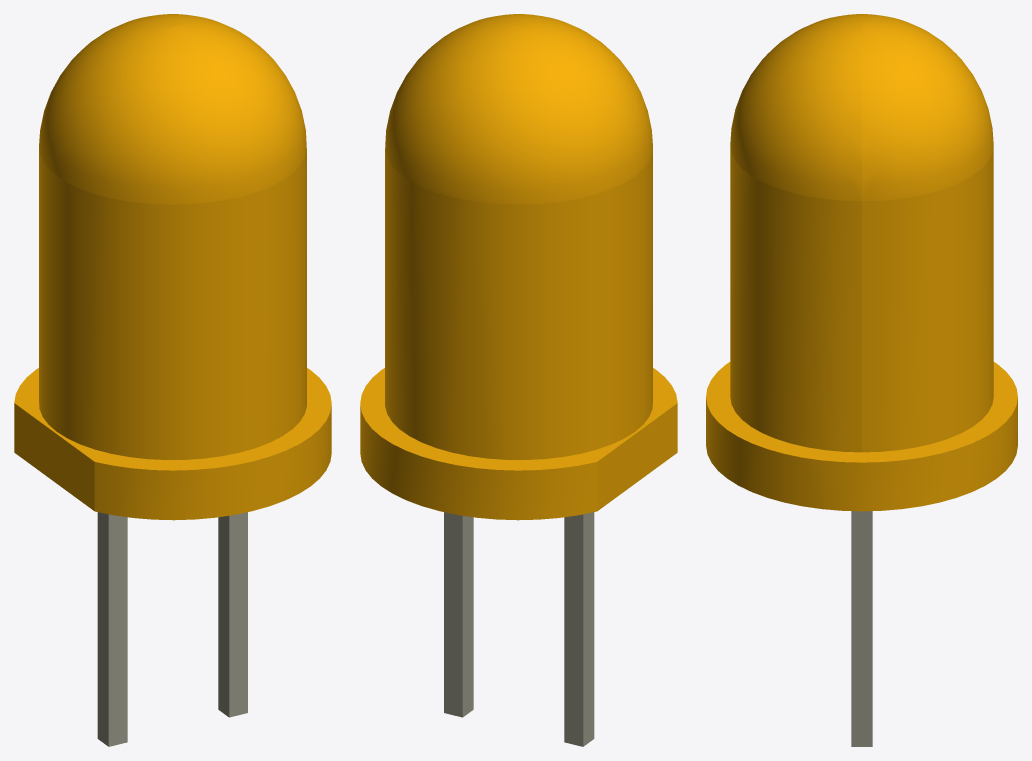
The model's file is led-5mm-yellow.glb.
3 views of the same model, side by side, from view 1: azimuth 30°, elevation 25°; view 2: azimuth 150°, elevation 25°; view 3: azimuth 270°, elevation 25° (orthographic).
Bounding box in the file's own units: 5.4 × 14.1 × 5.8.
